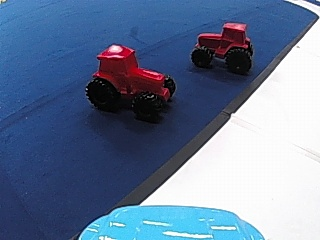tractor: (83, 41, 175, 119), (190, 20, 256, 72)
